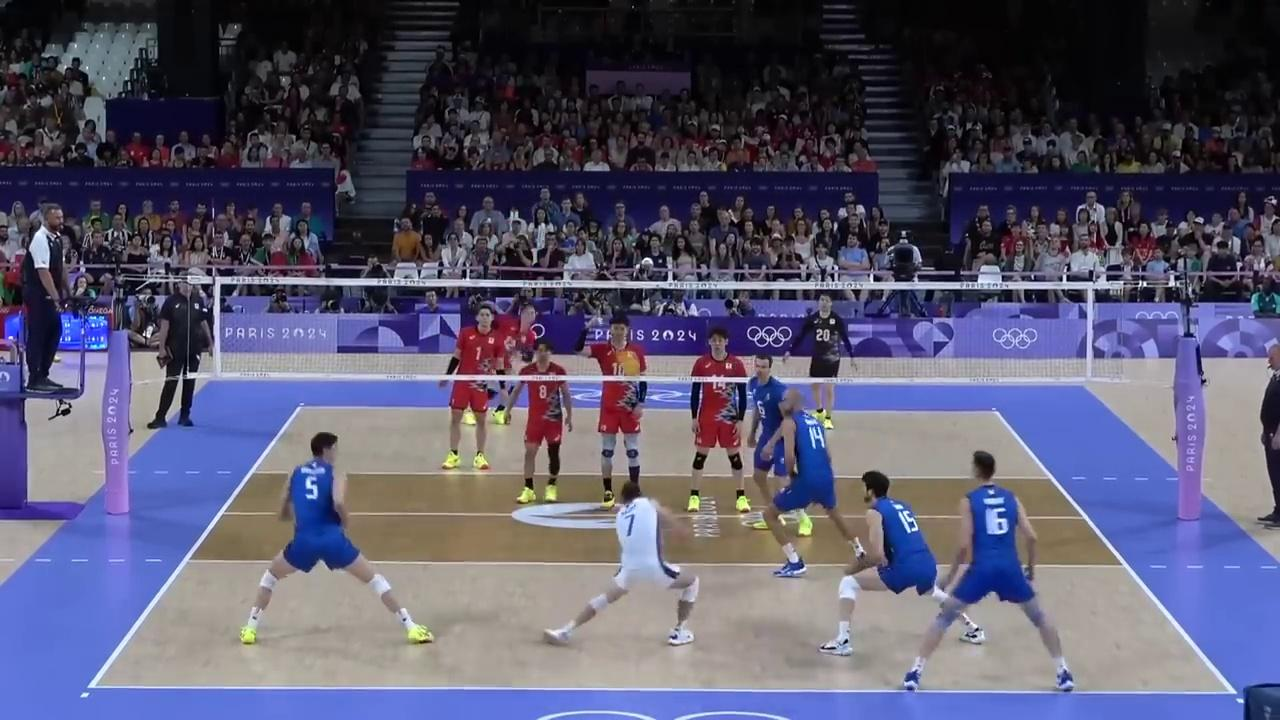ball: (620, 353, 640, 376)
